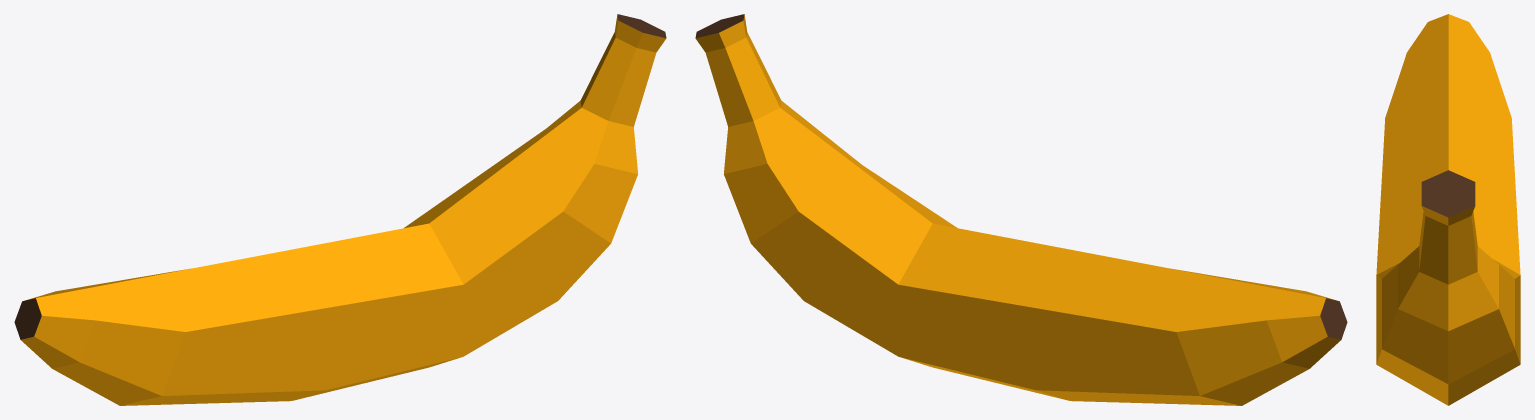
The model's file is banana.gltf.
3 renders of one model, left to right at view 1: azimuth 30°, elevation 25°; view 2: azimuth 150°, elevation 25°; view 3: azimuth 270°, elevation 25°, orthographic. The views are drawn at different scales.
Visible parts, largest first — view 1: Icosphere.002; view 2: Icosphere.002; view 3: Icosphere.002.
Boxes of the visible parts, x1,y1,x2,y2 form: Icosphere.002: (14,14,666,405); Icosphere.002: (695,14,1347,405); Icosphere.002: (1376,14,1520,405).
Size of the model in its own units: 4.34 by 1.93 by 0.8021.
